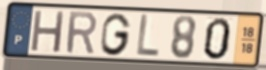0: (202, 16, 233, 62)
8: (170, 14, 198, 61)
G: (99, 12, 133, 58)
H: (29, 8, 67, 54)
L: (134, 13, 161, 60)
R: (65, 10, 99, 56)
